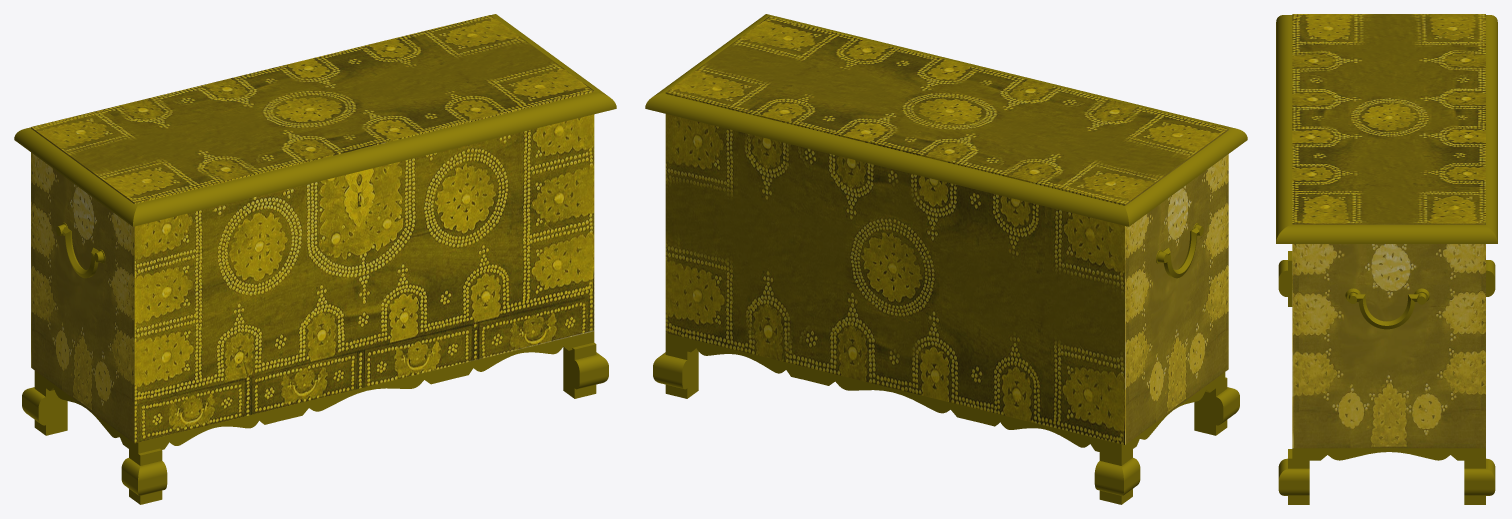
File: mandoos3d.glb
3 views of the same model, side by side, from view 1: azimuth 30°, elevation 25°; view 2: azimuth 150°, elevation 25°; view 3: azimuth 270°, elevation 25° (orthographic). The views are drawn at different scales.
Visible parts, largest first — view 1: Object003_Material #48_0, Object004_Material #25_0, Object002_Material #61_0, Object_24_Material #107_0, Object_13_Material #107_0, Object_14_Material #107_0, Object_19_Material #107_0, Object_12_Material #107_0, Object_20_Material #107_0, Object_21_Material #107_0, Object_22_Material #107_0; view 2: Object001_Material #108_0, Object004_Material #25_0, Object002_Material #61_0, Object_24_Material #107_0, Object_12_Material #107_0, Object_16_Material #107_0, Object_15_Material #107_0, Object_13_Material #107_0, Object_17_Material #107_0, Object_18_Material #107_0, Object_22_Material #107_0; view 3: Object004_Material #25_0, Object002_Material #61_0, Object_24_Material #107_0, Object_23_Material #107_0, Object_14_Material #107_0, Object_15_Material #107_0, Object_11_Material #107_0, Object_13_Material #107_0, Object_12_Material #107_0.
Boxes of the visible parts, <box> form: Object003_Material #48_0: <box>134,91,594,443</box>; Object004_Material #25_0: <box>31,15,593,202</box>; Object002_Material #61_0: <box>31,127,134,443</box>; Object_24_Material #107_0: <box>14,14,616,226</box>; Object_13_Material #107_0: <box>121,447,167,504</box>; Object_14_Material #107_0: <box>563,342,608,398</box>; Object_19_Material #107_0: <box>276,364,457,421</box>; Object_12_Material #107_0: <box>22,380,67,435</box>; Object_20_Material #107_0: <box>143,409,275,452</box>; Object_21_Material #107_0: <box>457,333,588,377</box>; Object_22_Material #107_0: <box>34,371,143,453</box>; Object001_Material #108_0: <box>665,92,1124,444</box>; Object004_Material #25_0: <box>666,16,1228,204</box>; Object002_Material #61_0: <box>1125,129,1228,444</box>; Object_24_Material #107_0: <box>645,14,1247,226</box>; Object_12_Material #107_0: <box>1094,447,1140,504</box>; Object_16_Material #107_0: <box>802,366,983,423</box>; Object_15_Material #107_0: <box>653,344,698,398</box>; Object_13_Material #107_0: <box>1194,377,1239,435</box>; Object_17_Material #107_0: <box>984,411,1115,455</box>; Object_18_Material #107_0: <box>670,334,801,379</box>; Object_22_Material #107_0: <box>1116,372,1225,455</box>; Object004_Material #25_0: <box>1292,14,1485,223</box>; Object002_Material #61_0: <box>1292,223,1485,448</box>; Object_24_Material #107_0: <box>1276,15,1497,243</box>; Object_23_Material #107_0: <box>1292,448,1485,460</box>; Object_14_Material #107_0: <box>1278,449,1309,504</box>; Object_15_Material #107_0: <box>1464,458,1495,504</box>; Object_11_Material #107_0: <box>1355,294,1418,329</box>; Object_13_Material #107_0: <box>1278,251,1292,306</box>; Object_12_Material #107_0: <box>1486,260,1495,296</box>.
Size of the model in its own units: 41.45 by 24.67 by 17.61.
6 materials, 4 textured.
